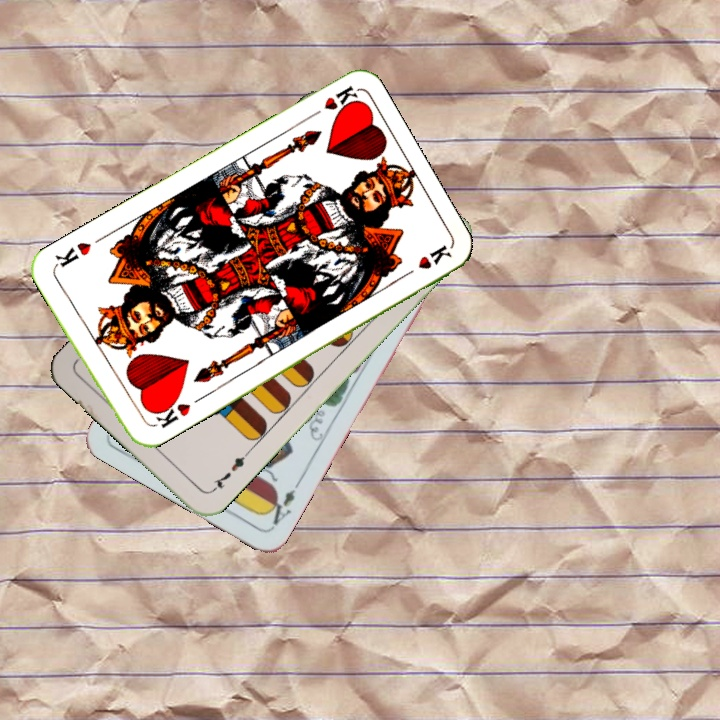E7: (206, 447, 252, 495)
EA: (261, 485, 298, 530)
HK: (303, 81, 362, 122), (146, 394, 194, 431)
